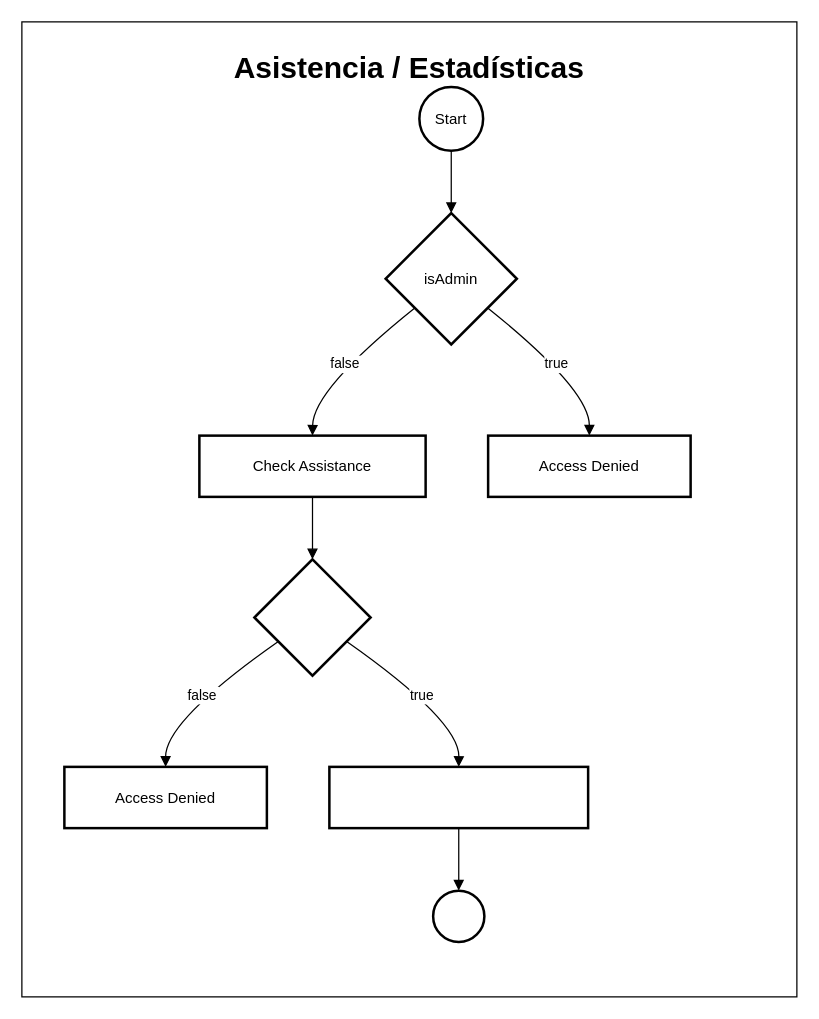
The diagram is 819 pixels wide and 1019 high, and some of its shapes have lost their labels. Here are the shapes that lost their labels. From the top down, the centre of each, then its label:
pixel 311 617: isUser
pixel 458 797: Fetch User Statistics
pixel 458 915: End
